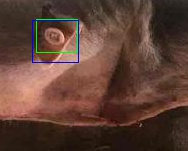text: (36, 19, 77, 52)
